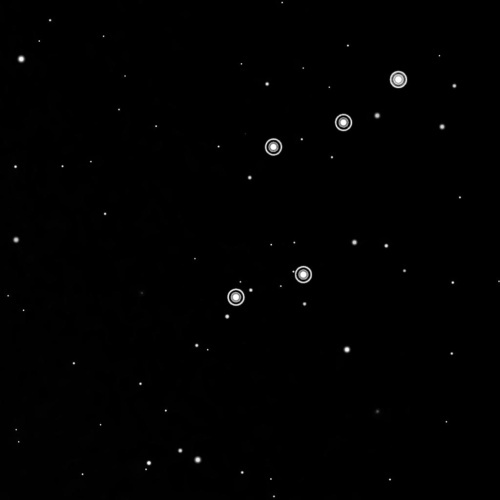lyra: (225, 65, 410, 310)
